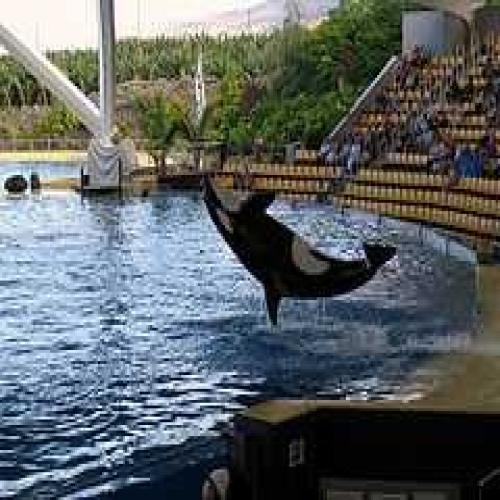killer_whale-endangered: (195, 144, 402, 320)
